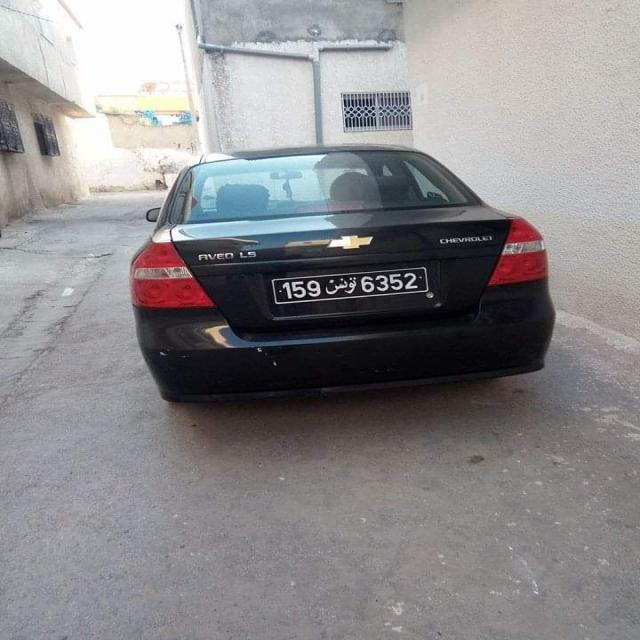LP: (271, 266, 428, 302)
